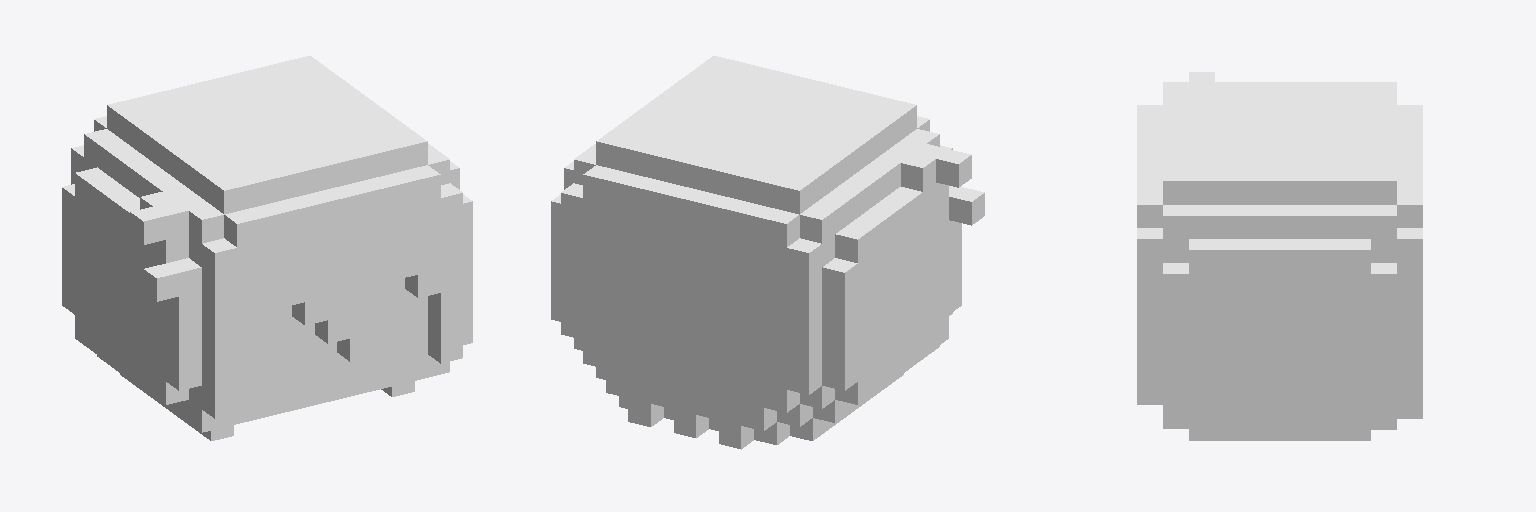
File: Ain-3.obj
The picture shows the model from 3 angles: view 1: azimuth 30°, elevation 25°; view 2: azimuth 150°, elevation 25°; view 3: azimuth 270°, elevation 25°; orthographic projection.
Parts seen in each view (by area): view 1: Ain-3; view 2: Ain-3; view 3: Ain-3.
Part boxes in pixels (x1,y1,x2,y2): Ain-3: (62, 56, 472, 440); Ain-3: (551, 56, 984, 449); Ain-3: (1137, 72, 1422, 440).
Size of the model in its own units: 14 by 11 by 11.